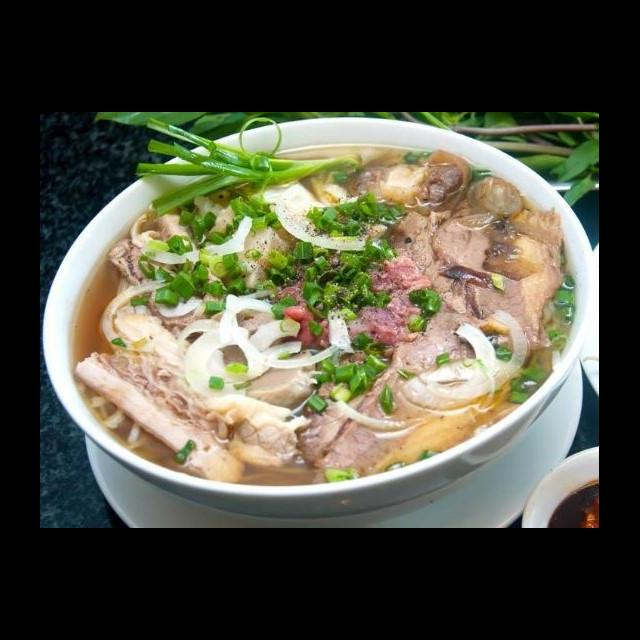thit bo: (300, 308, 488, 478), (432, 203, 572, 347), (267, 247, 448, 356), (384, 201, 486, 320), (104, 208, 204, 327), (350, 139, 474, 223)
